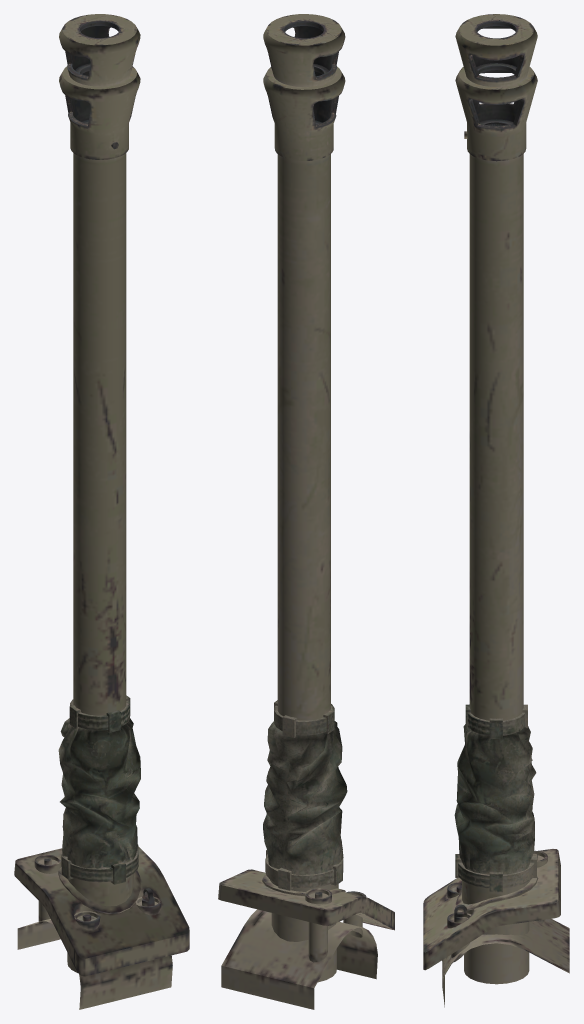
Rendered from Gun_02.glb.
The picture shows the model from 3 angles, left to right: view 1: azimuth 30°, elevation 25°; view 2: azimuth 150°, elevation 25°; view 3: azimuth 270°, elevation 25°; orthographic projection.
Visible parts, largest first — view 1: set_0_group_0; view 2: set_0_group_0; view 3: set_0_group_0.
Boxes of the visible parts, <box> form: set_0_group_0: <box>14,14,189,1009</box>; set_0_group_0: <box>218,14,394,1009</box>; set_0_group_0: <box>423,14,569,1007</box>.
Size of the model in its own units: 0.3642 by 2.96 by 0.4086.
Materials: 1 (1 with a texture image).
